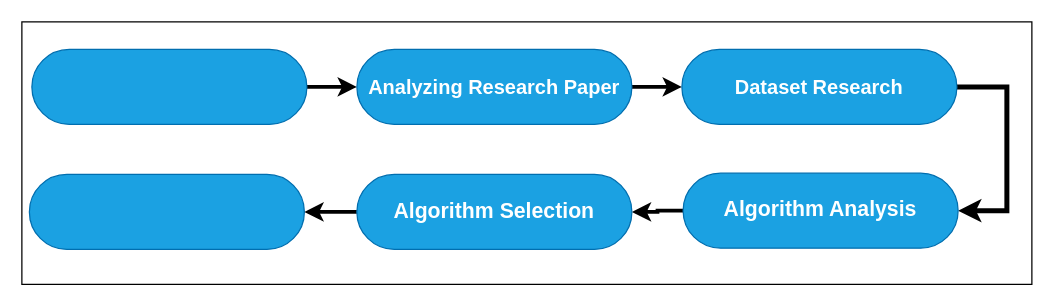
The diagram is 1054 pixels wide and 306 high, and some of its shapes have lost their labels. Here are the shapes that lost their labels. From the top down, the box of each, then its label:
(31, 48, 307, 124): Problem sub-domain research
(28, 173, 304, 249): User Interface
